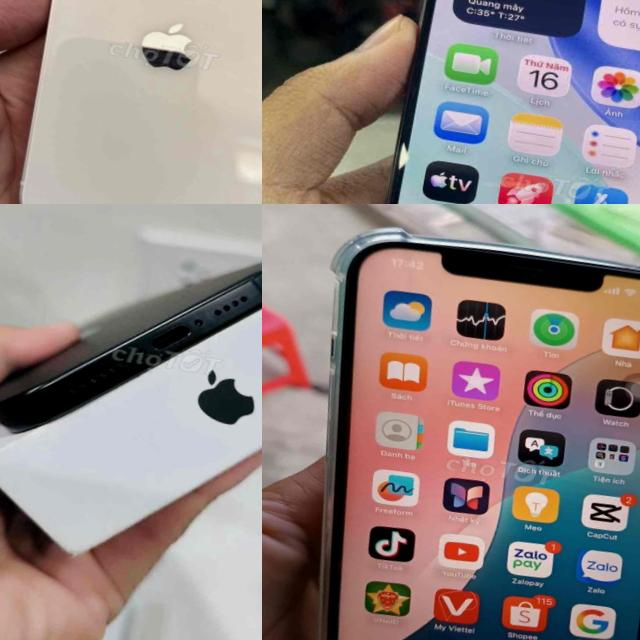gen_12_13: (262, 216, 640, 640), (13, 0, 262, 204)
gen_15: (336, 0, 640, 204)
gen_16: (0, 208, 262, 472)
